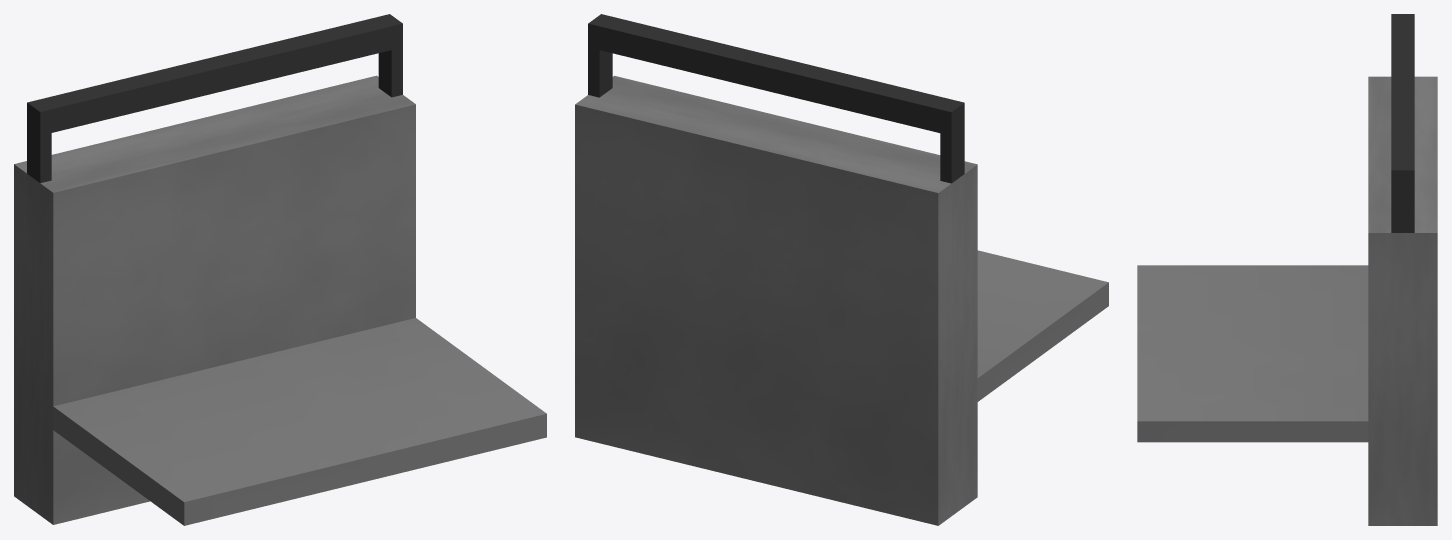
File: dc_metro_fence_012.obj
3 renders of one model, left to right at view 1: azimuth 30°, elevation 25°; view 2: azimuth 150°, elevation 25°; view 3: azimuth 270°, elevation 25°, orthographic. The views are drawn at different scales.
Parts seen in each view (by area): view 1: cube; view 2: cube; view 3: cube.
Boxes of the visible parts, x1=… form: cube: x1=14, y1=14, x2=546, y2=525; cube: x1=575, y1=14, x2=1108, y2=525; cube: x1=1137, y1=14, x2=1437, y2=525.
Size of the model in its own units: 1 by 1.06 by 0.8125.
Materials: 2 (2 with a texture image).
